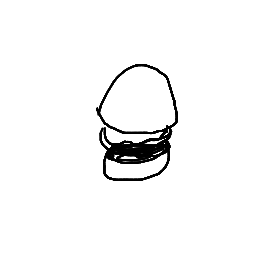hamburger: (1, 1, 255, 255)
